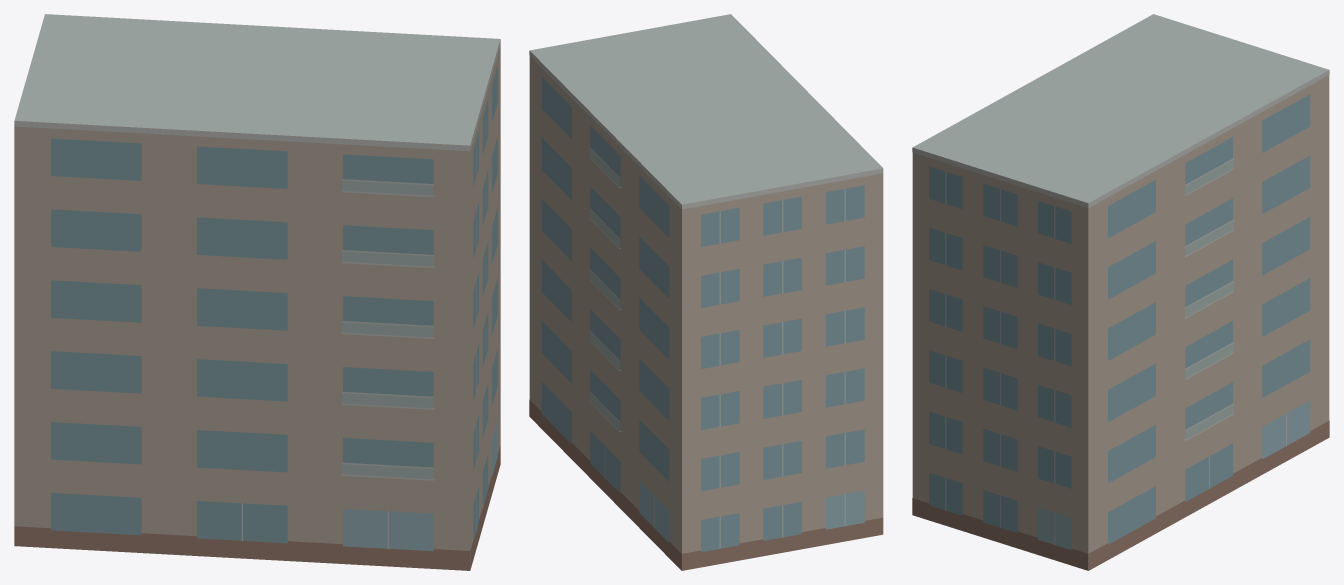
Rendered from survey-upis-32882881.glb.
3 views of the same model, side by side, from view 1: azimuth 30°, elevation 25°; view 2: azimuth 150°, elevation 25°; view 3: azimuth 270°, elevation 25° (orthographic). The views are drawn at different scales.
Visible parts, largest first — view 1: survey-upis-32882881.tmp; view 2: survey-upis-32882881.tmp; view 3: survey-upis-32882881.tmp.
Boxes of the visible parts, box(x1,y1,x2,y2) form: survey-upis-32882881.tmp: box(14, 14, 500, 570); survey-upis-32882881.tmp: box(529, 14, 883, 570); survey-upis-32882881.tmp: box(912, 14, 1329, 570).
Size of the model in its own units: 20.21 by 18.3 by 18.82.
